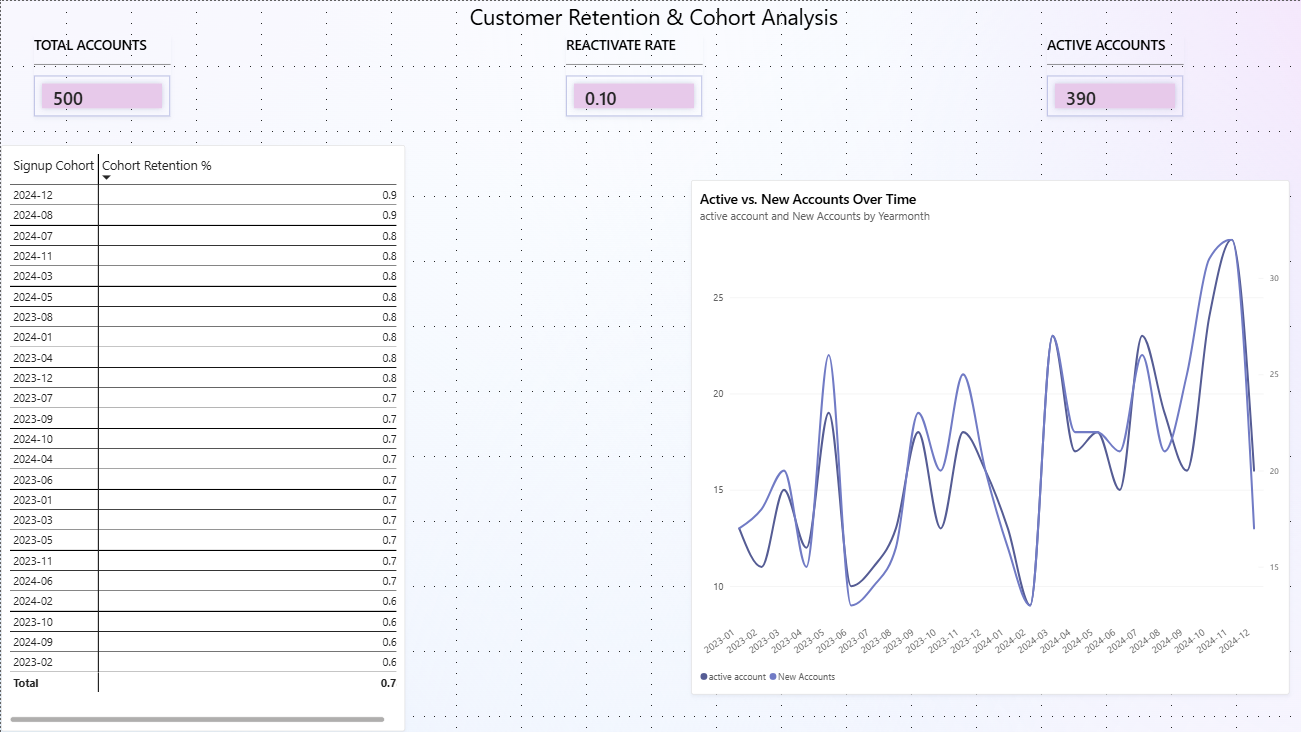

Layout of this report page (visuals, bound fields, positions):
{"tool":"powerbi","page":{"name":"Page 3","canvas":[1920,1080],"ordinal":2},"visuals":[{"type":"textbox","box":[9.5,0,1910.5,50.4],"z":0},{"type":"pivotTable","fields":{"Rows":["accounts.Signup Cohort"],"Values":["_Measures.Cohort Retention %"]},"box":[0,212.6,596.6,866.4],"z":1000},{"type":"cardVisual","title":"ACTIVE ACCOUNTS","fields":{"Data":["_Measures.active account"]},"box":[1544.8,50.4,201.8,119.8],"z":2000},{"type":"cardVisual","title":"REACTIVATE RATE","fields":{"Data":["_Measures.reactivate_rate"]},"box":[833.9,50.4,201.8,119.8],"z":3000},{"type":"cardVisual","title":"TOTAL ACCOUNTS","fields":{"Data":["_Measures.Total Accounts"]},"box":[48.9,50.4,201.8,119.8],"z":4000},{"type":"lineChart","title":"Active vs. New Accounts Over Time","fields":{"Category":["dim_date.Yearmonth"],"Y":["_Measures.active account"],"Y2":["_Measures.New Accounts"]},"box":[1018.7,265,883.8,760.1],"z":5000}]}

Visuals, with their boxes in screenshot pixels (x1, y1, x2, y2), scaled from the page's 1920x1080 canvas onto the 1301x732 screenshot:
textbox: <region>6, 0, 1300, 34</region>
pivotTable - accounts.Signup Cohort x _Measures.Cohort Retention %: <region>0, 144, 404, 731</region>
"ACTIVE ACCOUNTS" cardVisual: <region>1047, 34, 1184, 115</region>
"REACTIVATE RATE" cardVisual: <region>565, 34, 702, 115</region>
"TOTAL ACCOUNTS" cardVisual: <region>33, 34, 170, 115</region>
"Active vs. New Accounts Over Time" lineChart: <region>690, 180, 1289, 695</region>
